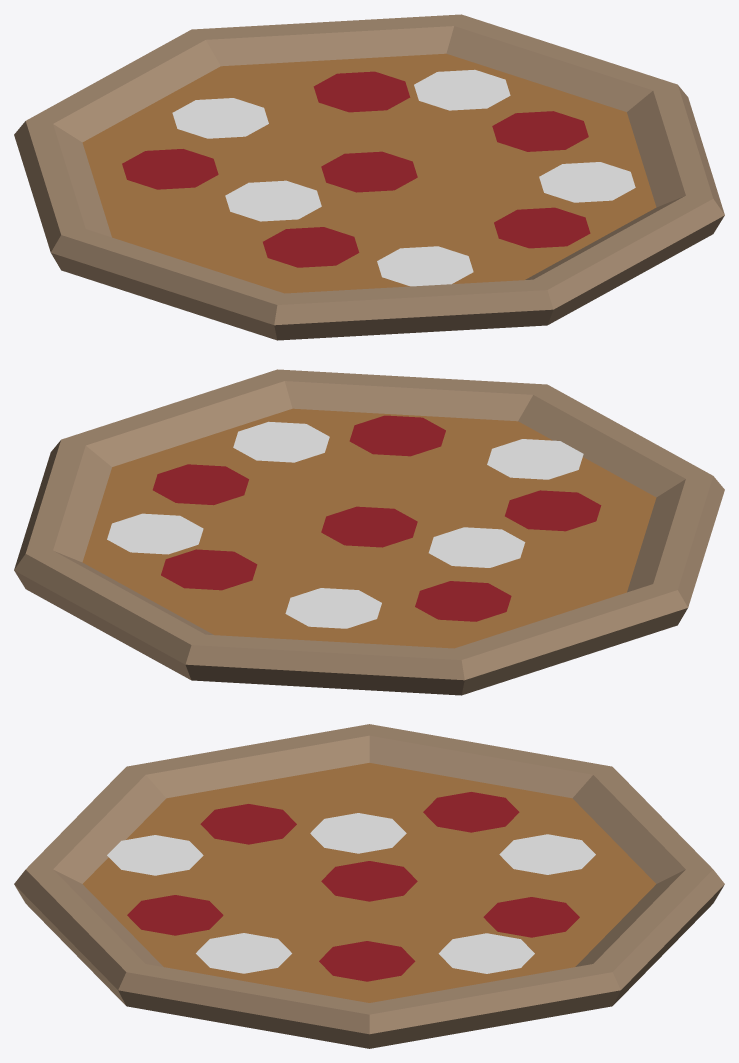
The model's file is pizza.fbx.
3 views of the same model, one above another, from view 1: azimuth 30°, elevation 25°; view 2: azimuth 150°, elevation 25°; view 3: azimuth 270°, elevation 25° (orthographic). The views are drawn at different scales.
Visible parts, largest first — view 1: pizza; view 2: pizza; view 3: pizza.
Part boxes in pixels (x1=…): pizza: x1=14, y1=14, x2=724, y2=340; pizza: x1=14, y1=369, x2=724, y2=695; pizza: x1=14, y1=724, x2=724, y2=1048.
Bounding box in the file's own units: 66.02 × 66.02 × 3.51.
